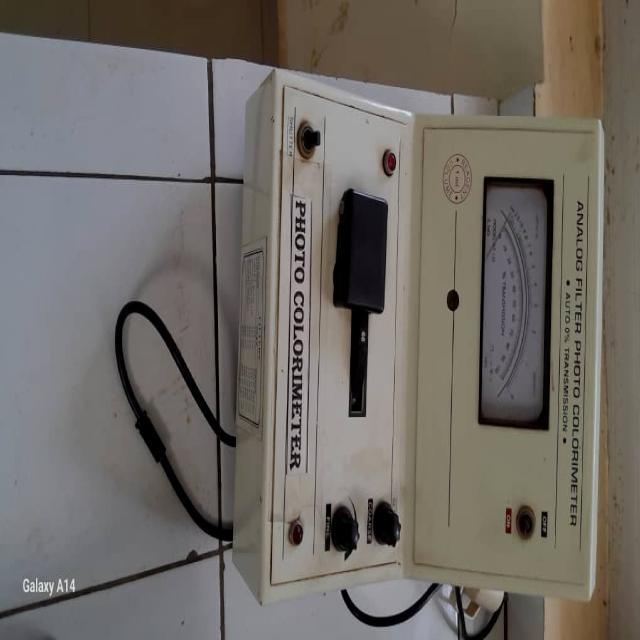Photocolorimeter: (249, 83, 612, 600)
